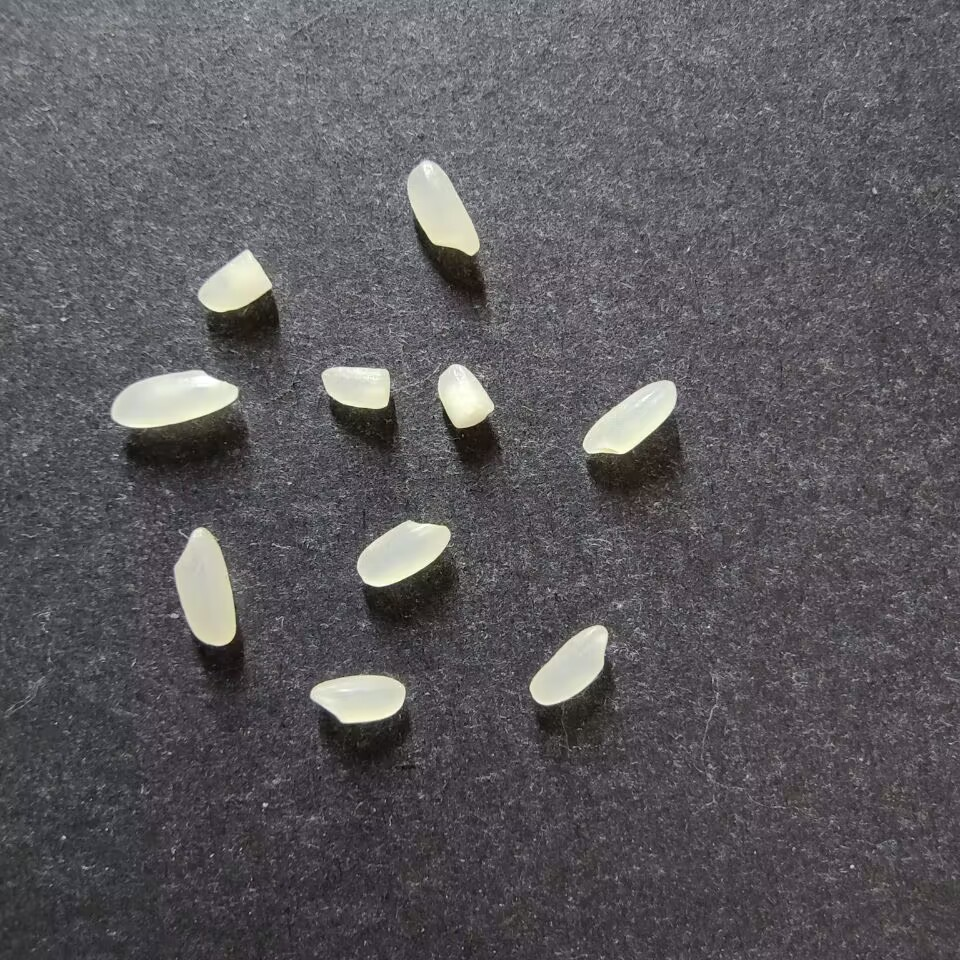broken: (196, 248, 272, 312), (436, 363, 495, 429), (320, 365, 392, 409)
rice: (172, 526, 237, 648), (109, 369, 239, 429), (405, 158, 481, 256), (581, 379, 678, 454), (528, 623, 608, 706), (355, 519, 451, 587), (308, 674, 406, 724)
